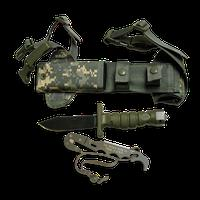knife: (29, 101, 178, 137)
